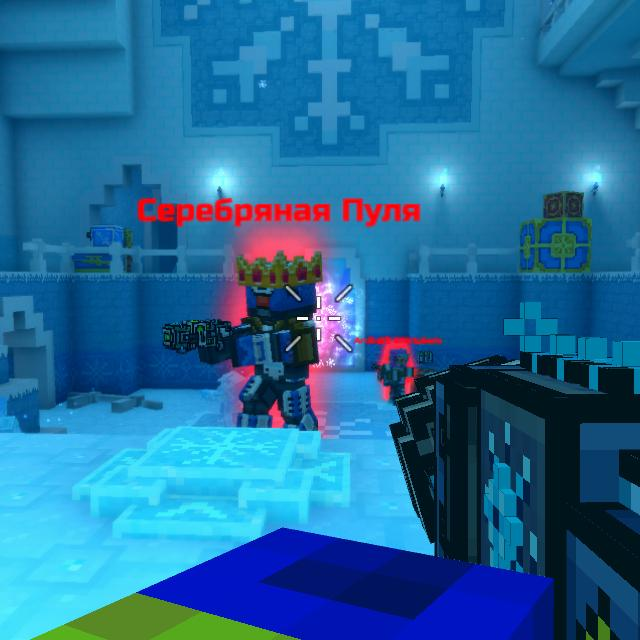Enemy: (204, 261, 326, 430), (378, 348, 414, 403)
